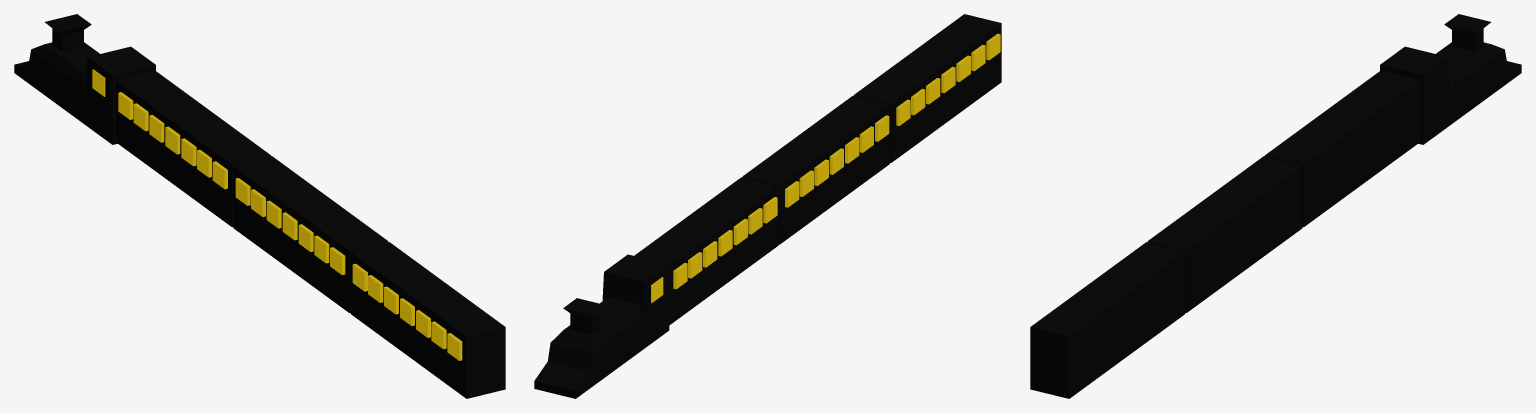
File: train.glb
The picture shows the model from 3 angles, left to right: view 1: azimuth 30°, elevation 25°; view 2: azimuth 150°, elevation 25°; view 3: azimuth 330°, elevation 25°; orthographic projection. The views are drawn at different scales.
Visible parts, largest first — view 1: car; view 2: car; view 3: car.
Boxes of the visible parts, x1,y1,x2,y2 form: car: (14, 14, 505, 398); car: (534, 14, 1001, 398); car: (1030, 14, 1521, 398).
Bounding box in the file's own units: 7.36 × 10.98 × 129.
